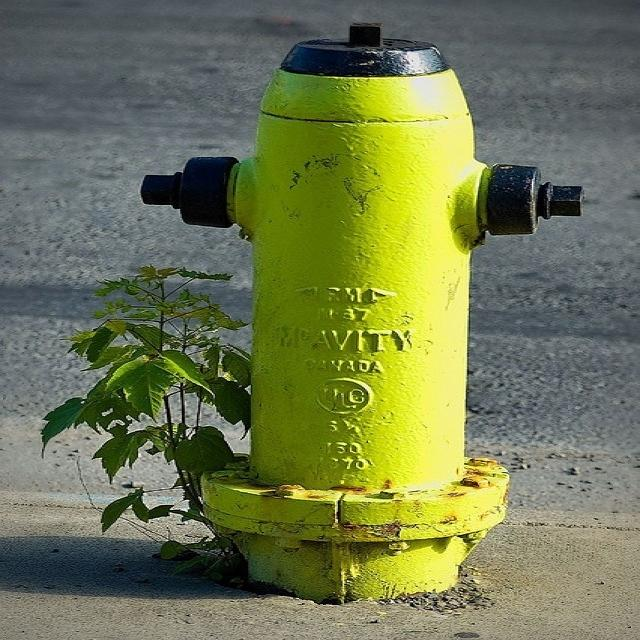fire_hydrant: (136, 8, 507, 640)
